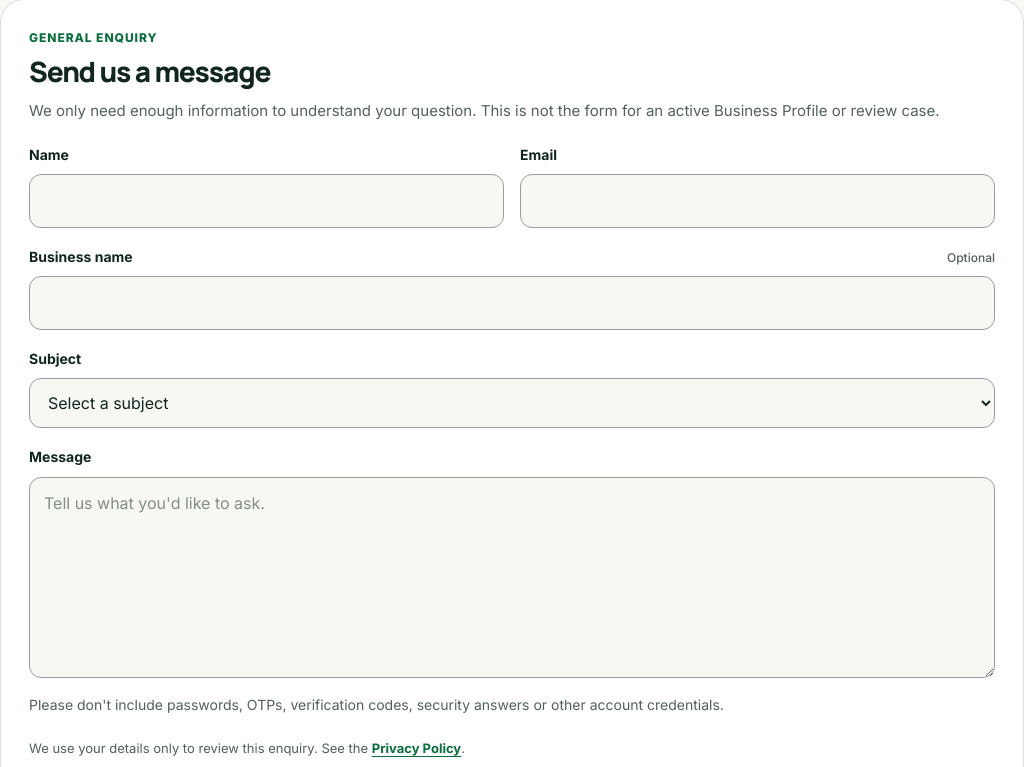
Scenario: ContactForm › preserves values when the API fails
The image size is (1024, 767).
Type "Alex Morgan" into the field labelled "Name" at [266, 201], box [29,174,504,228]
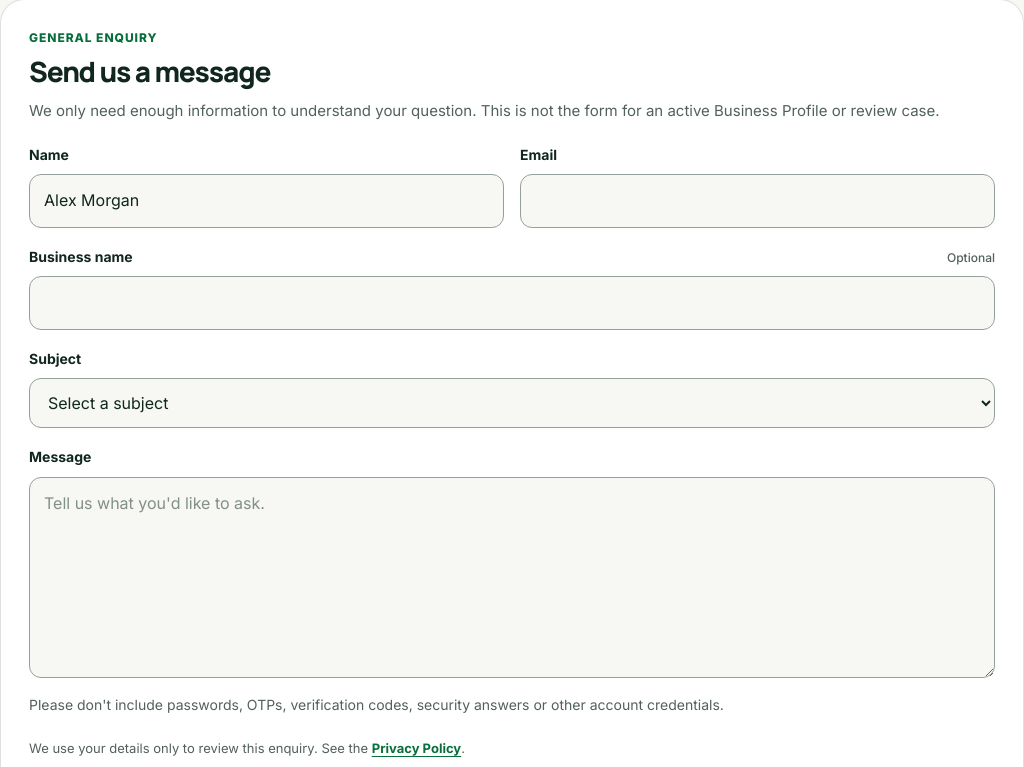
Type "alex@example.com" into the field labelled "Email" at [758, 201], box [520,174,995,228]
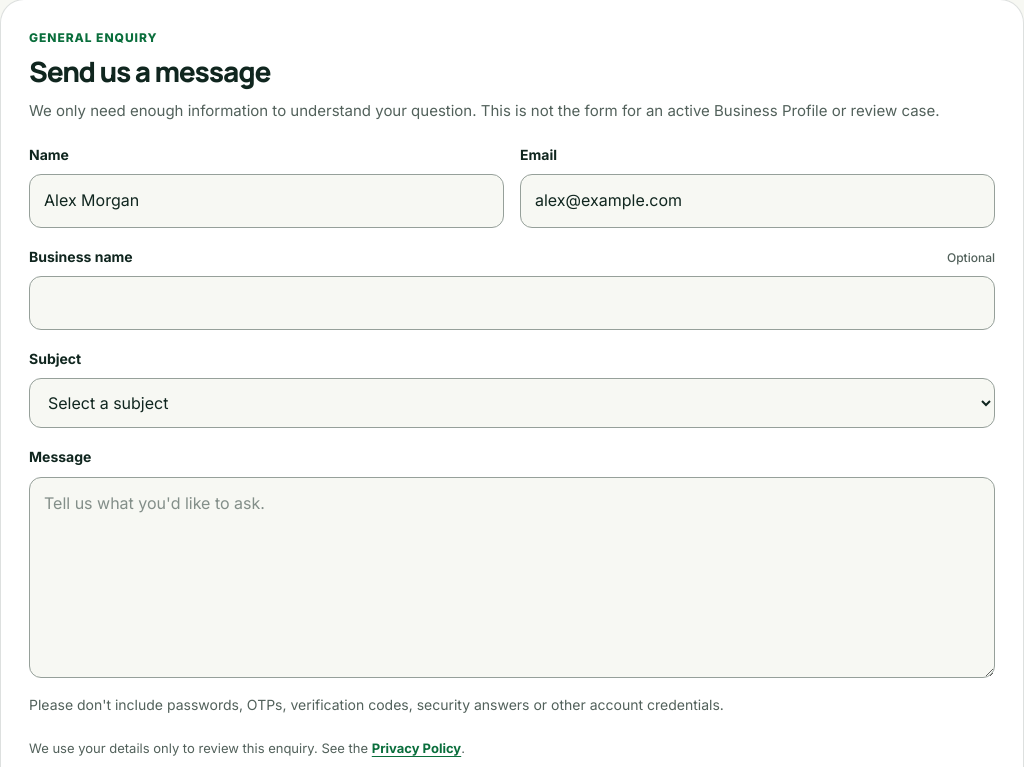
Type "Harbour Bakery" into the field labelled "Business name Optional" at [512, 303], box [29,276,995,330]
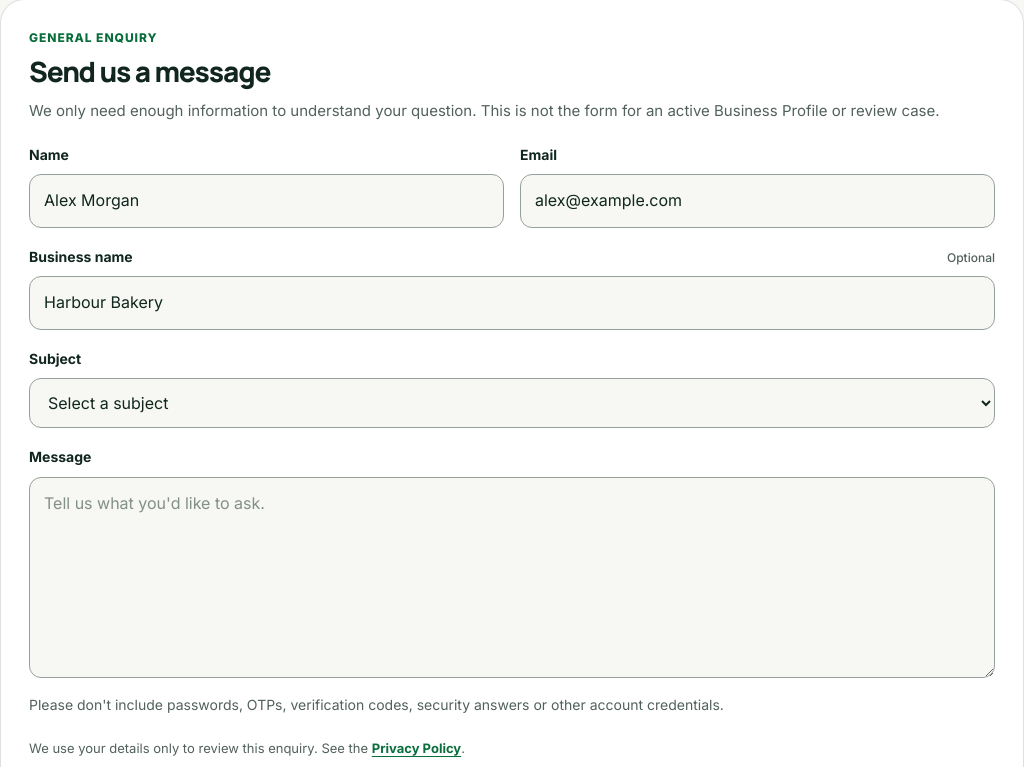
Select "General question" in the dropdown labelled "Subject" at [512, 403], box [29,378,995,428]
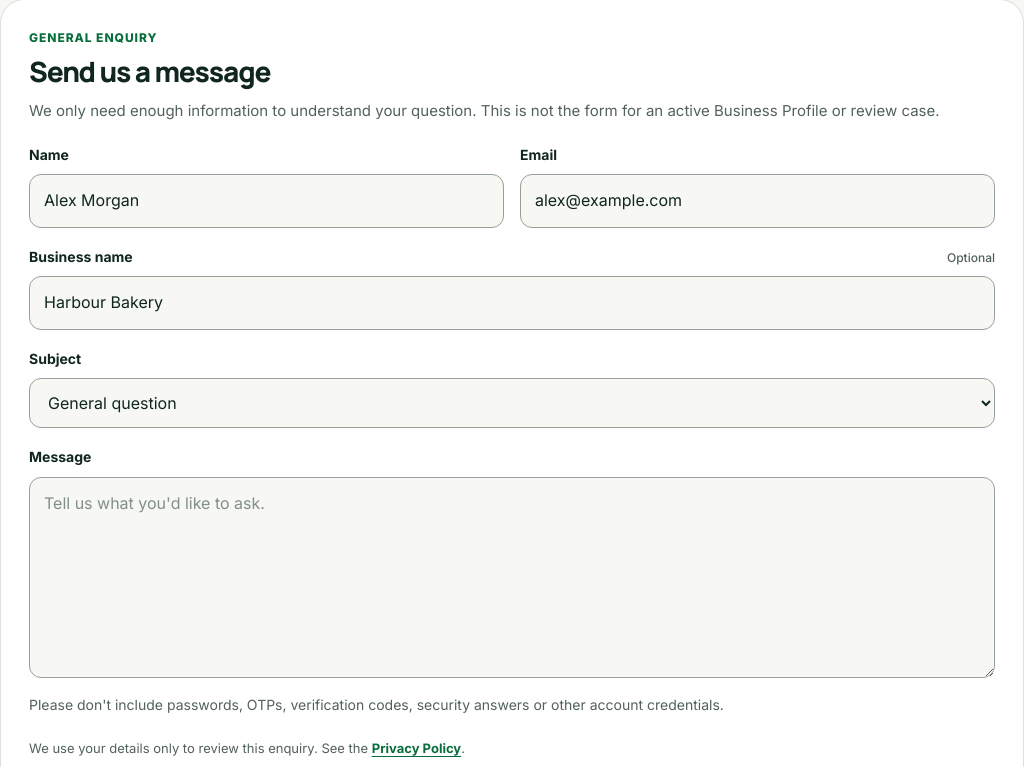
Type "Could you explain how ProfileRelaunch assessments work before we start?" into the text box labelled "Message" at [512, 578], box [29,477,995,678]
(page scrolled)
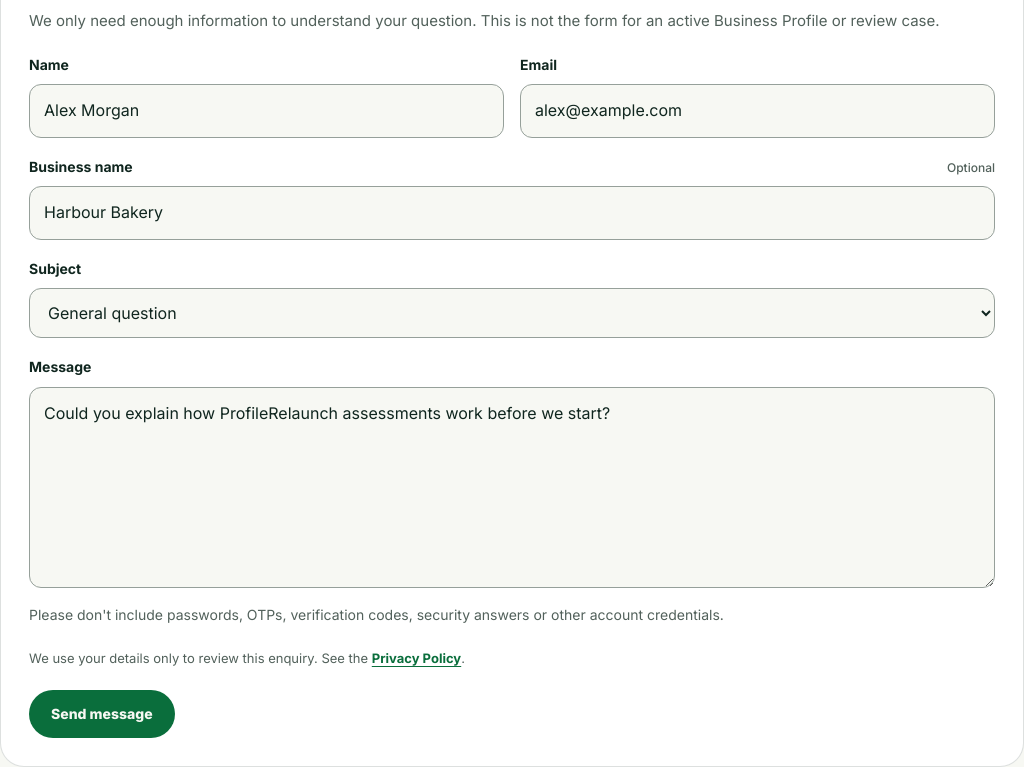
Click the button "Send message" at [102, 714], box [29,690,175,738]
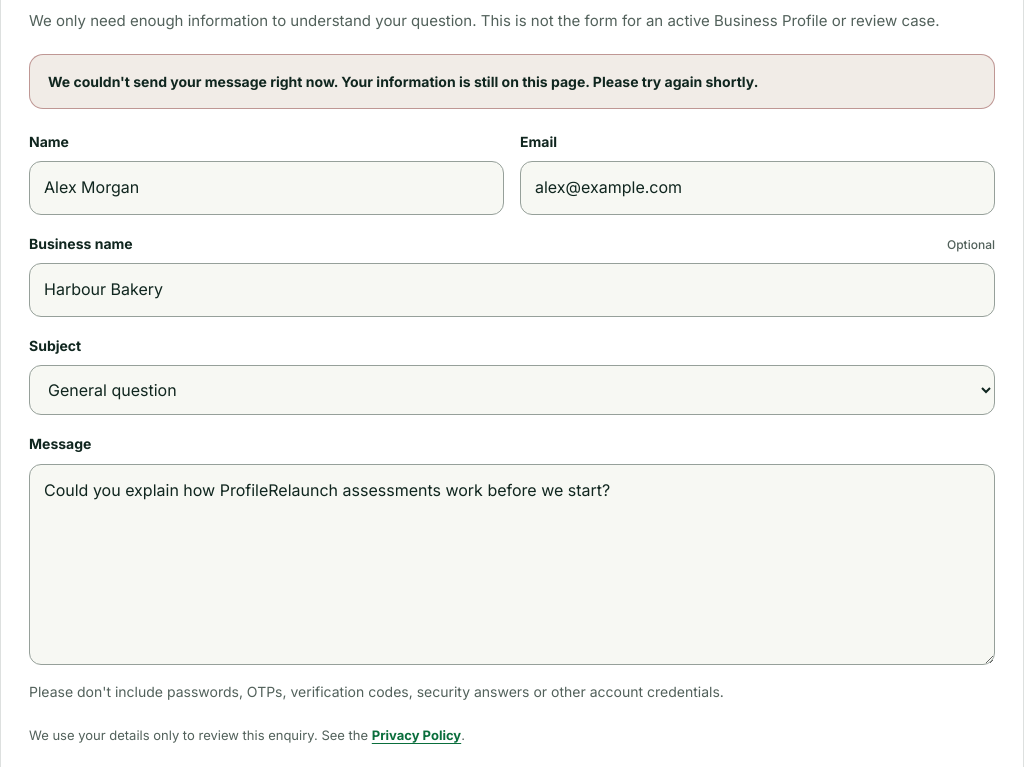
Now the message is shown, box [29,54,995,109]
Now the message shows "We couldn't send your message right now. Your information is still on this page. Please try again shortly.", box [48,73,758,90]
